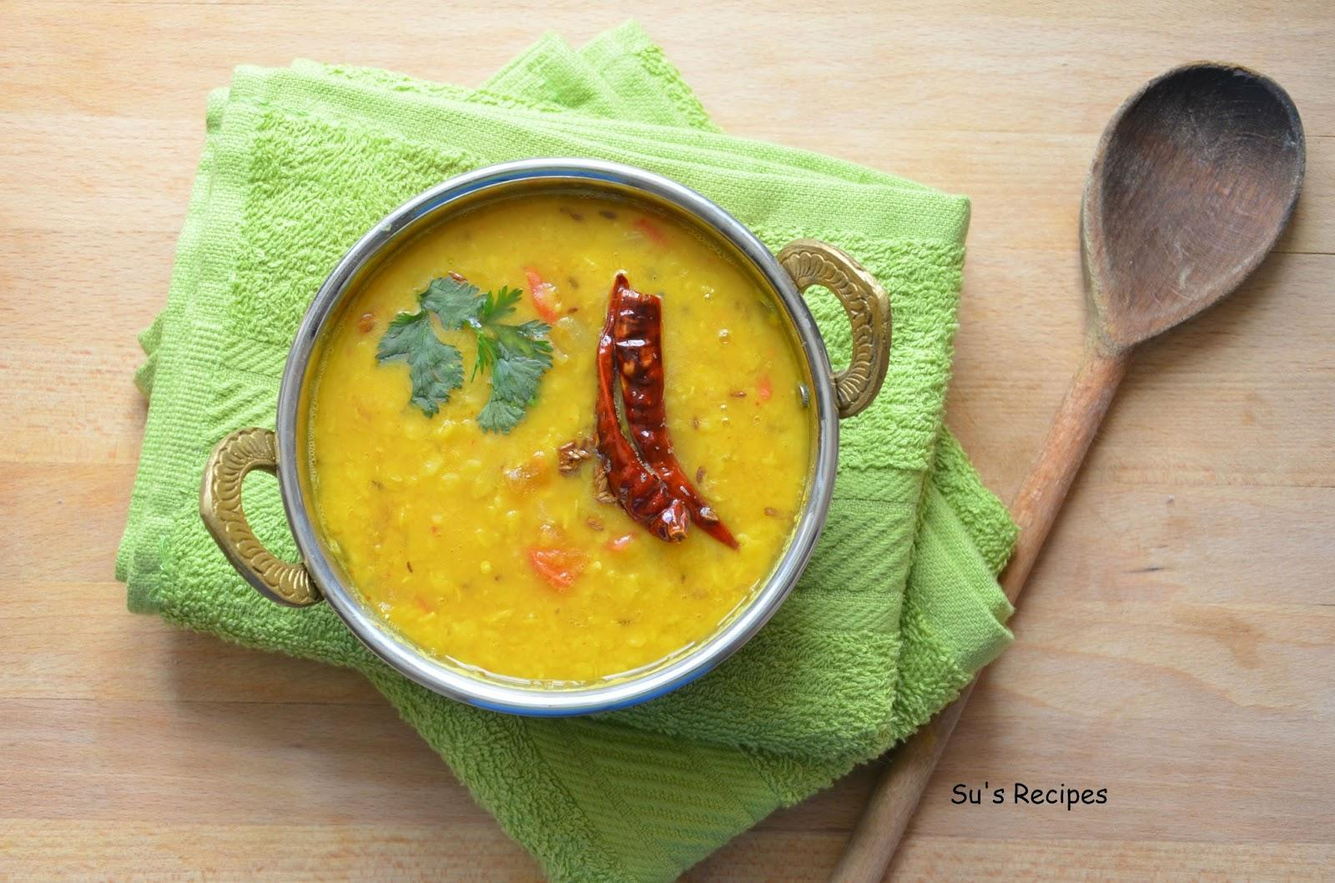dal: (302, 188, 824, 693)
